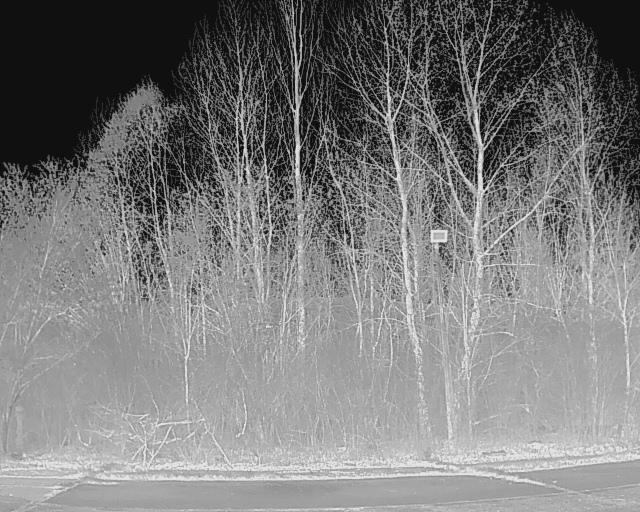drone: (239, 308, 289, 334)
